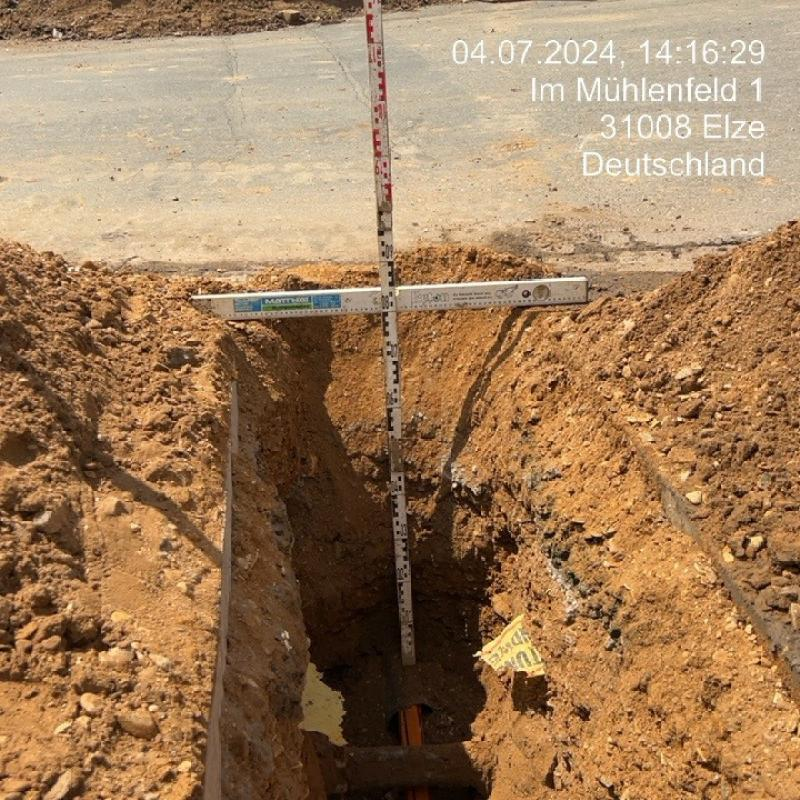Orang-Speednetrohrchen: (399, 707, 424, 745)
